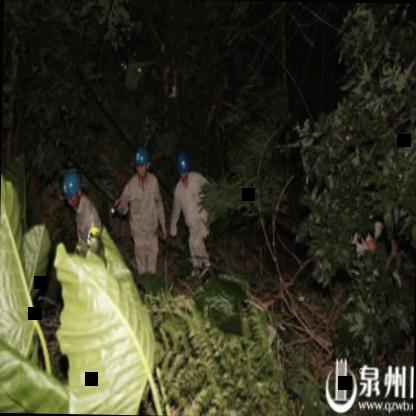helmet: (57, 167, 85, 215), (134, 149, 152, 180), (176, 152, 192, 182)
